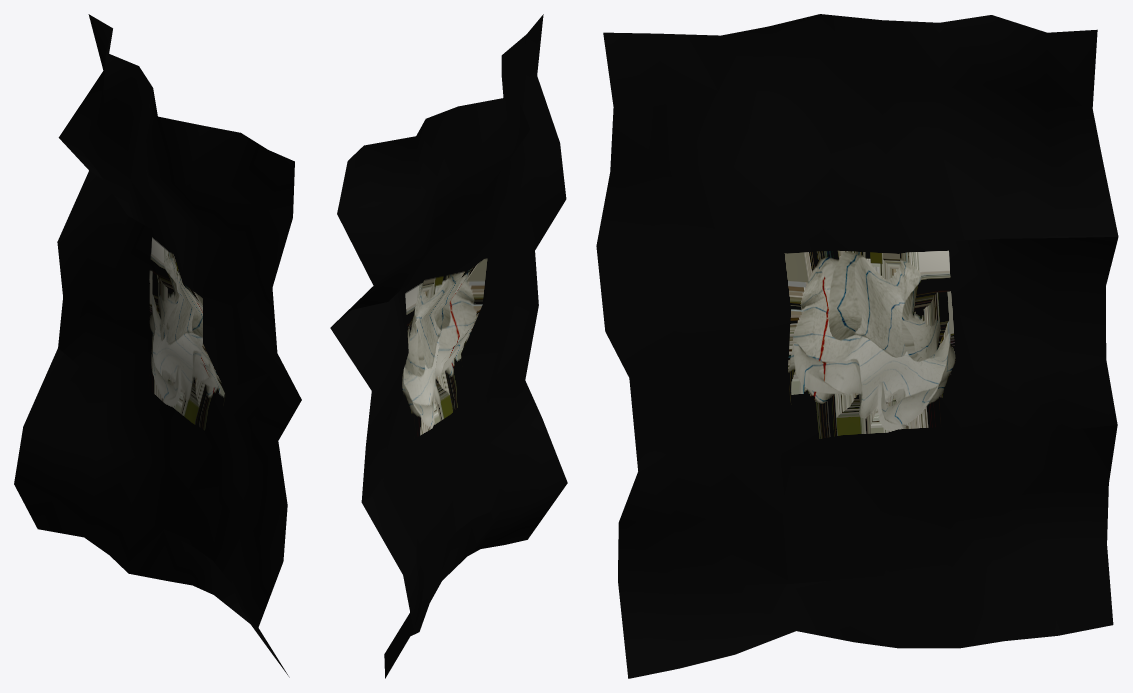
Rendered from paper No1.fbx.
3 renders of one model, left to right at view 1: azimuth 30°, elevation 25°; view 2: azimuth 150°, elevation 25°; view 3: azimuth 270°, elevation 25°, orthographic. The views are drawn at different scales.
Visible parts, largest first — view 1: Plane_dmg.004; view 2: Plane_dmg.004; view 3: Plane_dmg.004.
Boxes of the visible parts, <box> form: Plane_dmg.004: <box>14,14,301,677</box>; Plane_dmg.004: <box>330,14,567,678</box>; Plane_dmg.004: <box>596,14,1118,678</box>.
Bounding box in the file's own units: 23.59 × 141 × 104.
